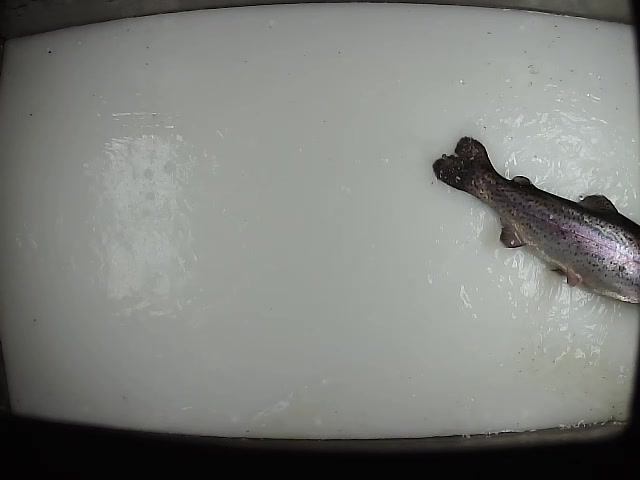fish: (429, 132, 640, 308)
